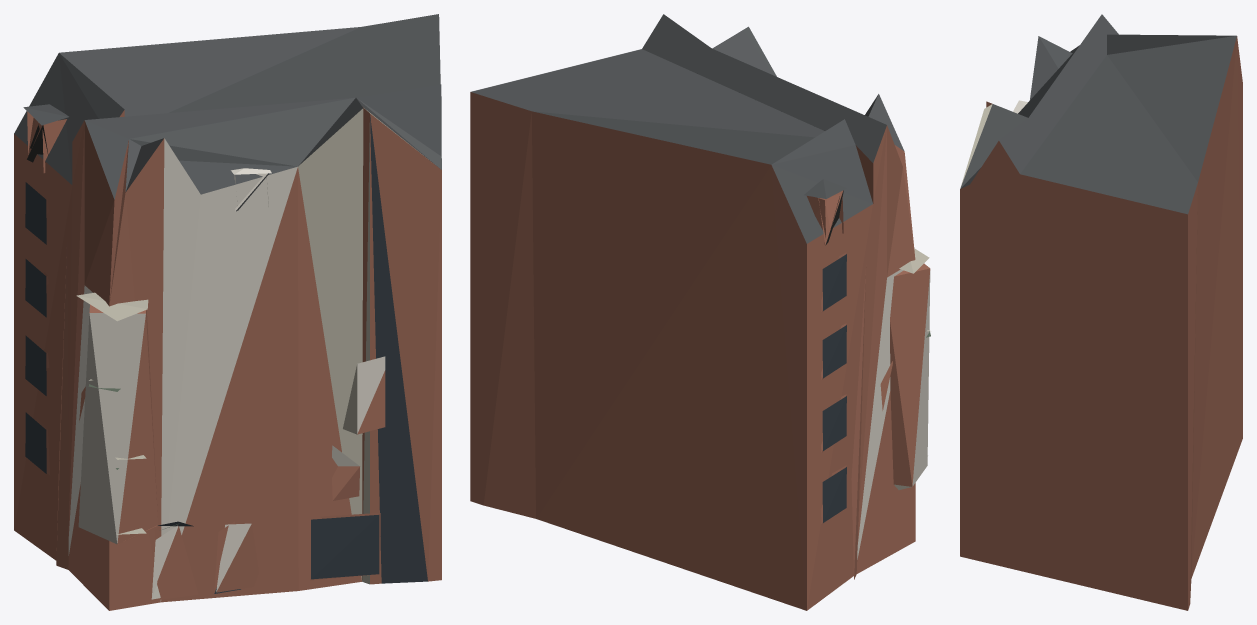
File: raadhuisstraat-52.lod2.glb
3 renders of one model, left to right at view 1: azimuth 30°, elevation 25°; view 2: azimuth 150°, elevation 25°; view 3: azimuth 270°, elevation 25°, orthographic. The views are drawn at different scales.
Visible parts, largest first — view 1: lod2; view 2: lod2; view 3: lod2.
Boxes of the visible parts, x1=… form: lod2: x1=14, y1=14, x2=441, y2=610; lod2: x1=470, y1=14, x2=930, y2=610; lod2: x1=960, y1=14, x2=1242, y2=610.
Bounding box in the file's own units: 22.58 × 24.23 × 14.54.
